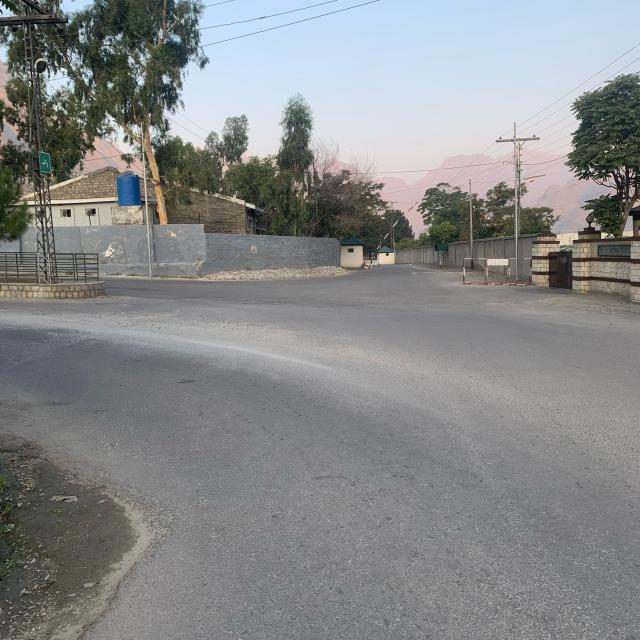Left-Turn: (0, 274, 211, 510)
straight: (374, 253, 465, 525)
